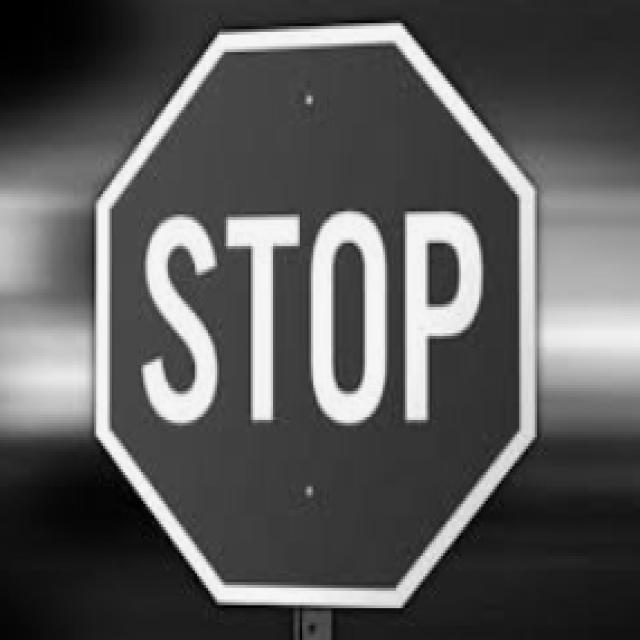Stop-signs: (92, 24, 538, 611)
